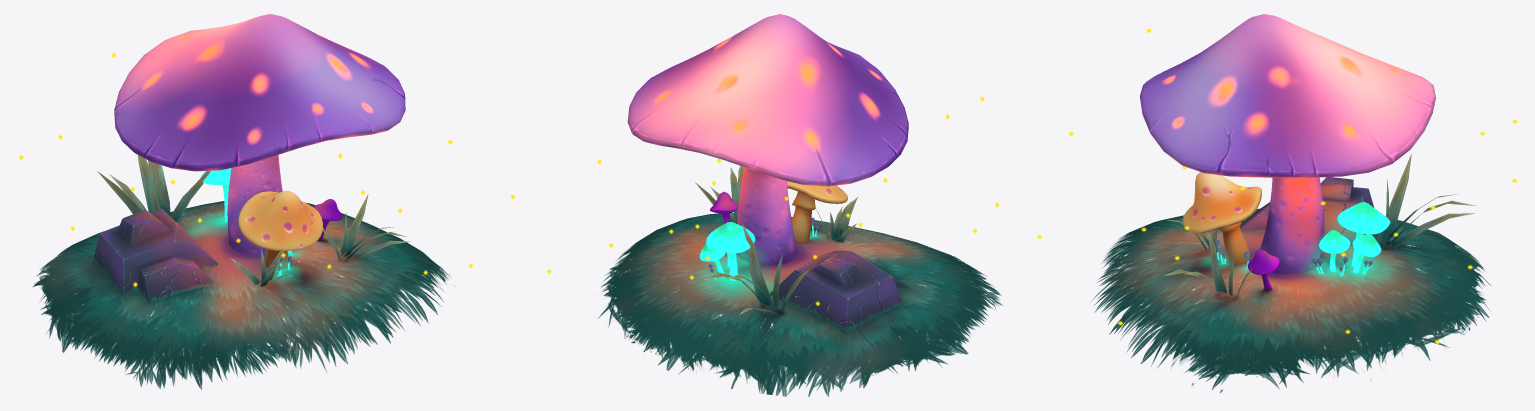
File: mushroom.gltf
3 views of the same model, side by side, from view 1: azimuth 30°, elevation 25°; view 2: azimuth 150°, elevation 25°; view 3: azimuth 270°, elevation 25° (orthographic). The views are drawn at different scales.
Parts seen in each view (by area): view 1: Plane, Circle, Cube.001, Circle.001, Plane.002, Cube, Plane.003, Plane.001, Circle.002, Circle.005; view 2: Plane, Circle, Cube.001, Circle.001, Plane.002, Circle.002, Cube, Plane.001, Plane.003, Circle.005; view 3: Plane, Circle, Circle.001, Plane.002, Cube.001, Circle.002, Plane.003, Circle.005, Cube, Circle.004, Circle.006, Plane.004.
Part boxes in pixels (x1,y1,x2,y2): Plane: [32, 201, 454, 389]; Circle: [114, 14, 405, 255]; Cube.001: [92, 209, 220, 303]; Circle.001: [238, 190, 322, 269]; Plane.002: [97, 155, 210, 223]; Cube: [116, 209, 172, 245]; Plane.003: [323, 194, 410, 262]; Plane.001: [230, 248, 292, 286]; Circle.002: [200, 168, 231, 222]; Circle.005: [313, 199, 342, 241]; Plane: [598, 213, 1002, 396]; Circle: [627, 14, 908, 265]; Cube.001: [769, 250, 908, 334]; Circle.001: [787, 181, 847, 243]; Plane.002: [701, 222, 809, 314]; Circle.002: [706, 222, 755, 280]; Cube: [812, 254, 865, 288]; Plane.001: [816, 197, 857, 242]; Plane.003: [695, 165, 743, 223]; Circle.005: [710, 191, 738, 223]; Plane: [1091, 208, 1490, 392]; Circle: [1140, 14, 1435, 274]; Circle.001: [1182, 172, 1261, 264]; Plane.002: [1361, 154, 1475, 249]; Cube.001: [1240, 187, 1374, 245]; Circle.002: [1337, 202, 1390, 266]; Plane.003: [1163, 232, 1252, 304]; Circle.005: [1248, 250, 1279, 290]; Cube: [1320, 177, 1353, 200]; Circle.004: [1319, 230, 1350, 271]; Circle.006: [1352, 234, 1381, 272]; Plane.004: [1037, 28, 1517, 344].
Size of the model in its own units: 5.83 by 4.17 by 5.99.
